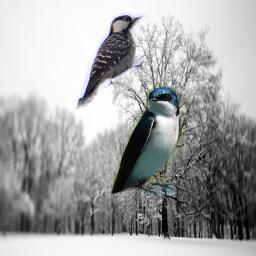Swallow: (111, 85, 184, 199)
Woodpecker: (71, 9, 151, 112)
